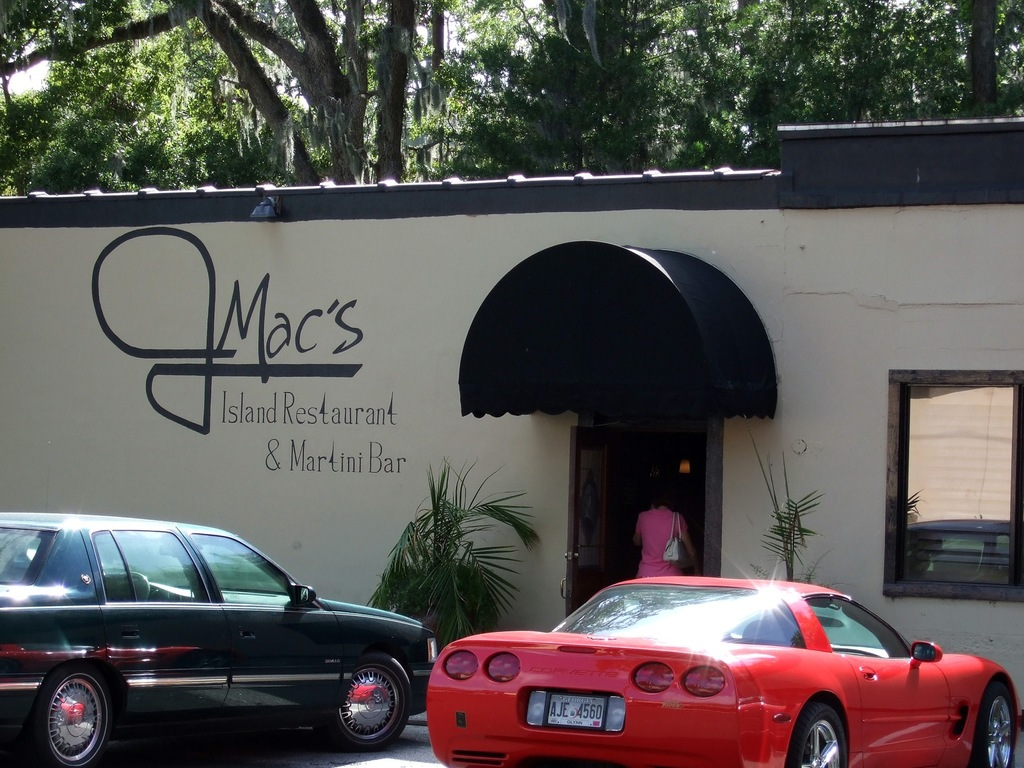Car: (424, 577, 1019, 767), (0, 512, 437, 767)
